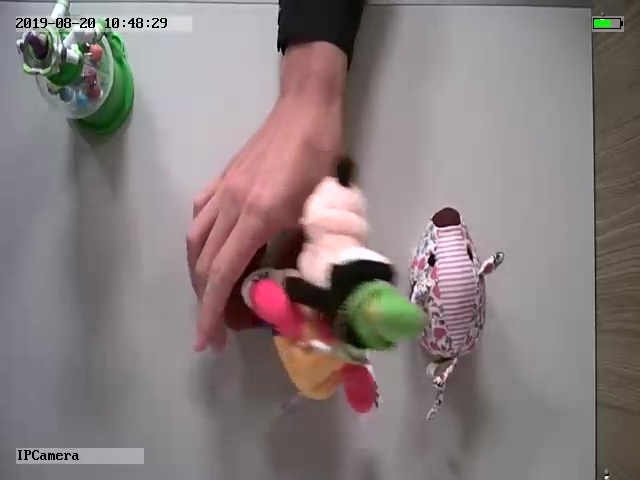buzz: (14, 1, 137, 126)
pig: (407, 208, 505, 423)
